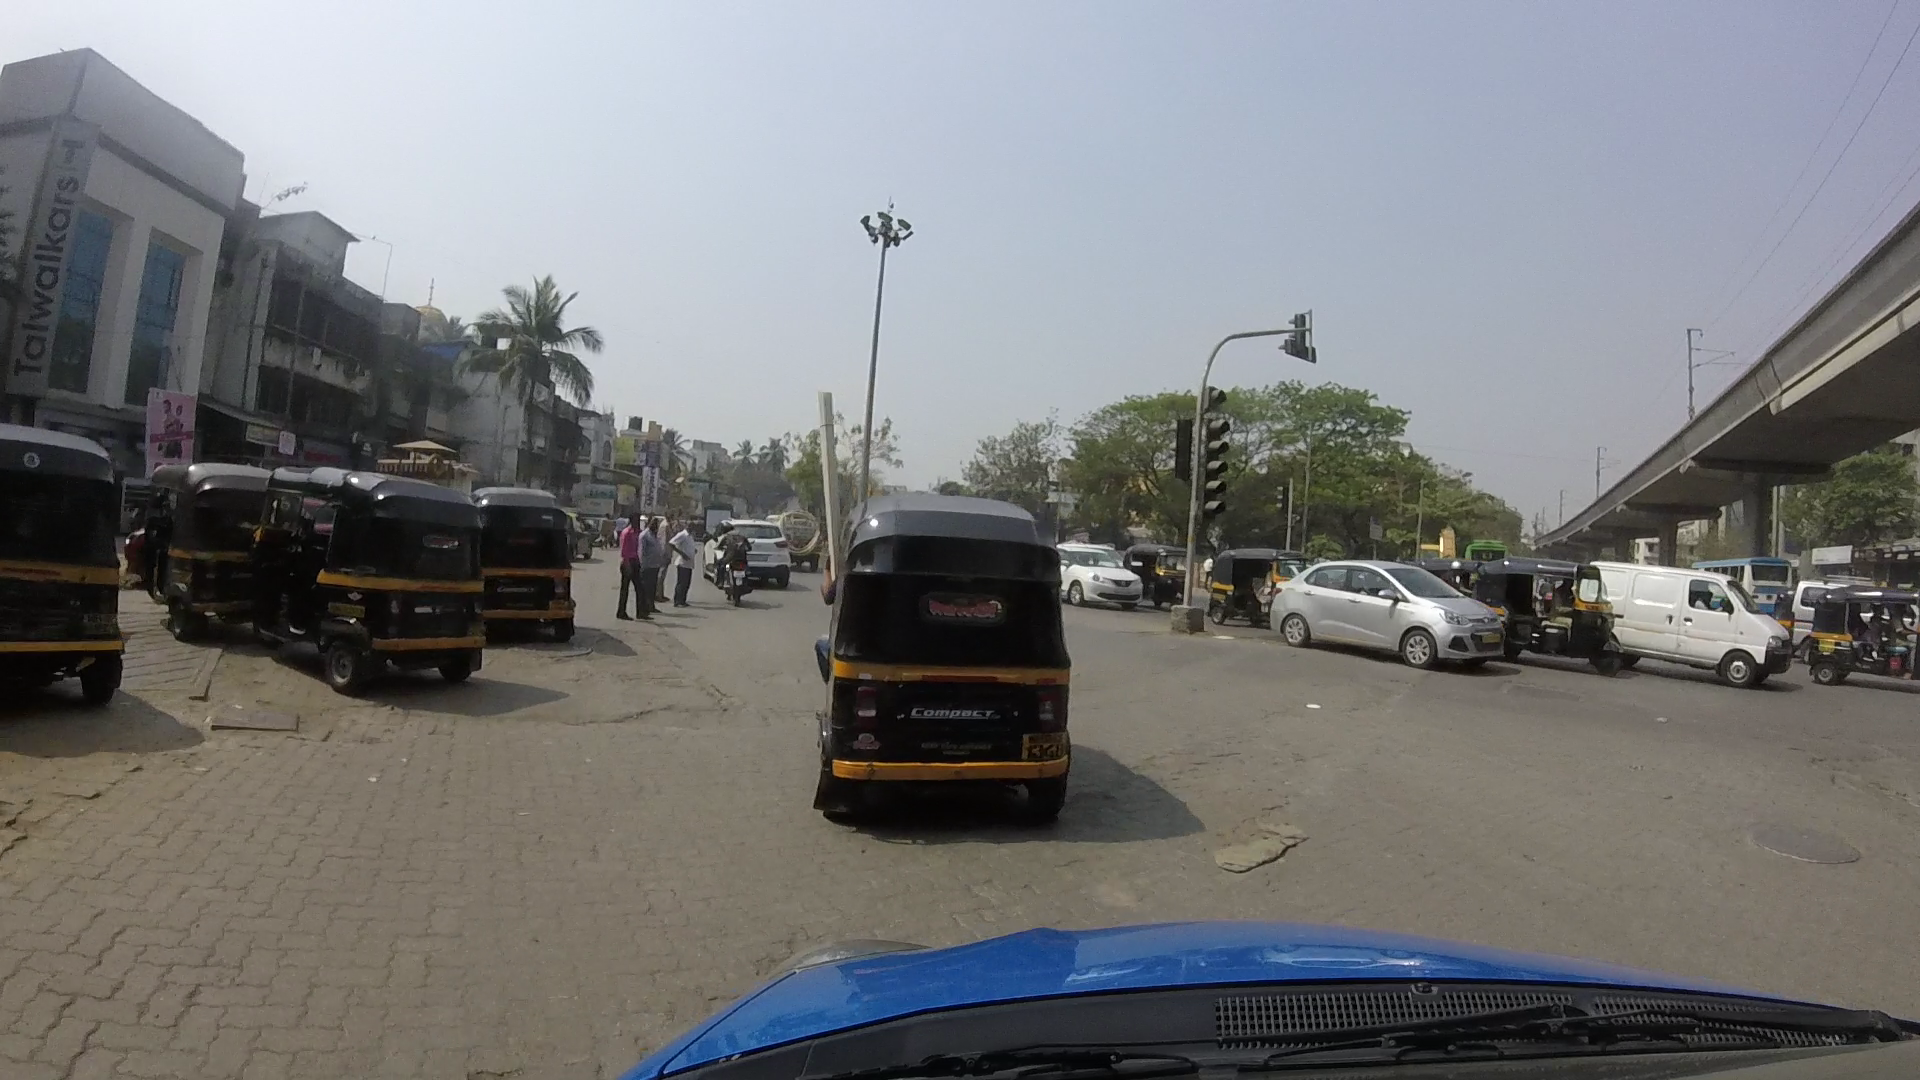bike/scooter: (708, 553, 764, 603)
car: (1267, 559, 1503, 666), (1592, 566, 1784, 688), (1273, 560, 1490, 666), (703, 520, 794, 597)
rickshaw: (822, 498, 1091, 807), (256, 465, 480, 688), (3, 426, 123, 708), (140, 462, 262, 632), (468, 484, 578, 645), (1487, 556, 1625, 669), (1813, 585, 1920, 684), (1204, 542, 1302, 624), (1127, 541, 1195, 609)
